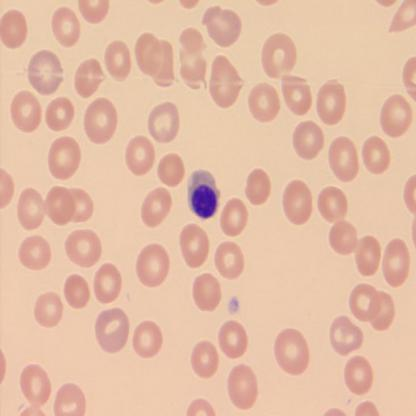NRC: (184, 168, 221, 220)
